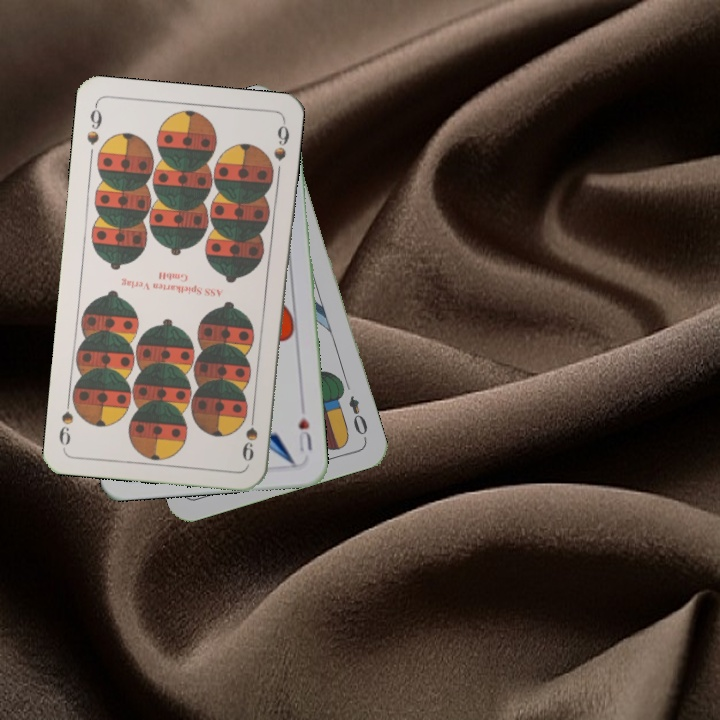EO: (345, 391, 370, 438)
HU: (294, 414, 314, 454)
S9: (238, 406, 261, 464), (83, 100, 104, 147)
